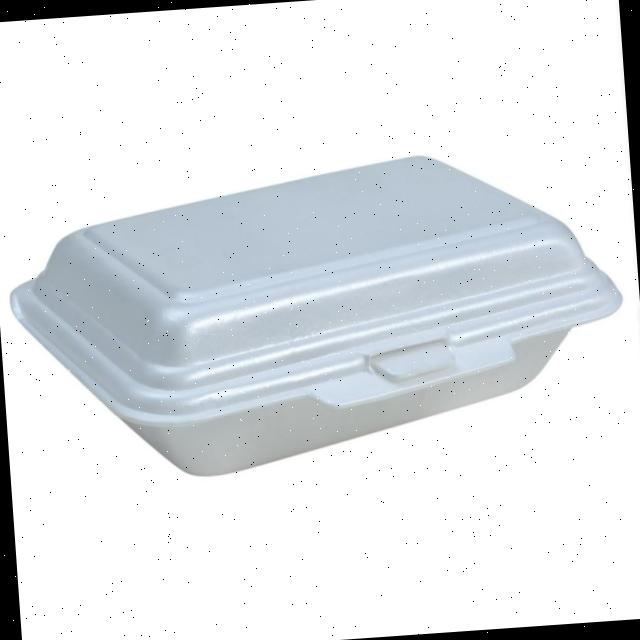styrofoam: (0, 138, 633, 490)
